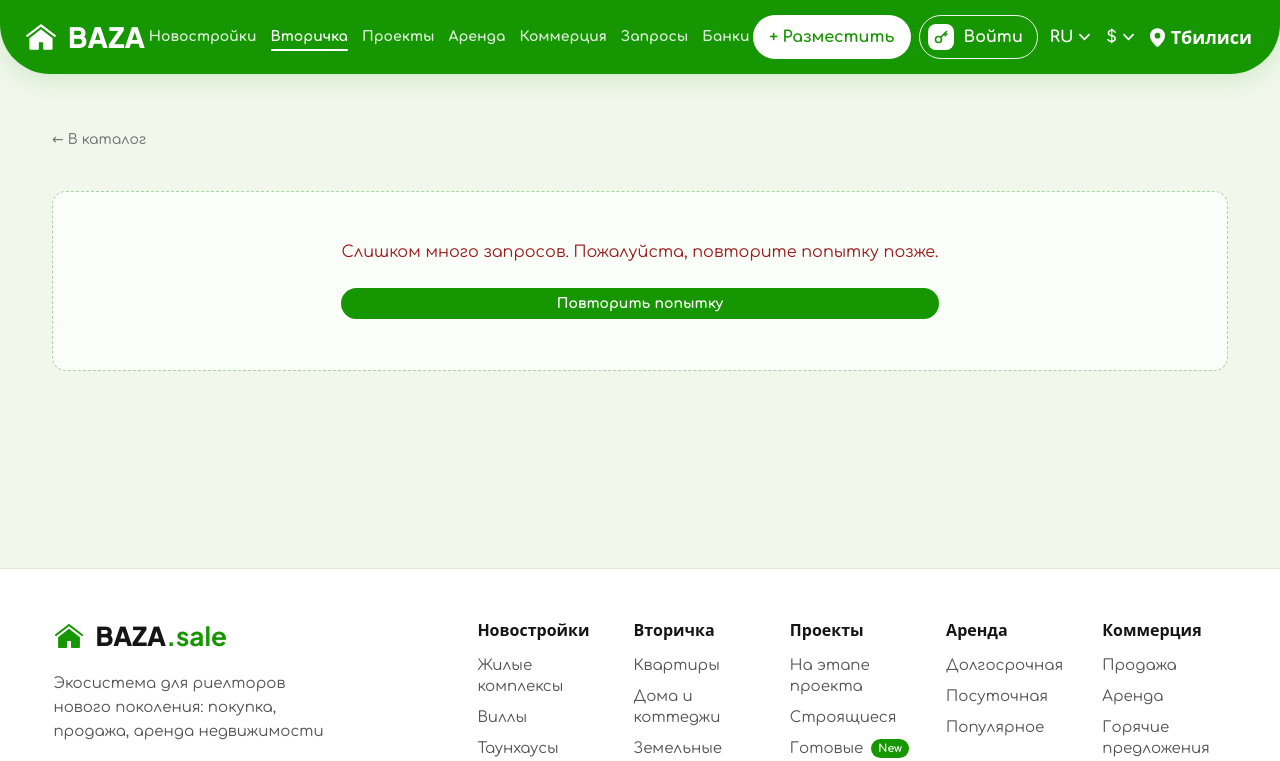
it: Production Error & Empty States Acceptance › renders 429 Rate Limited / Error state with retry button
Expected: the text "Слишком много запросов. Пожалуйста, повторите попытку позже." is shown, [342,243,939,261]
Click the button "Повторить попытку".
click(640, 304)  # box [342,288,939,319]
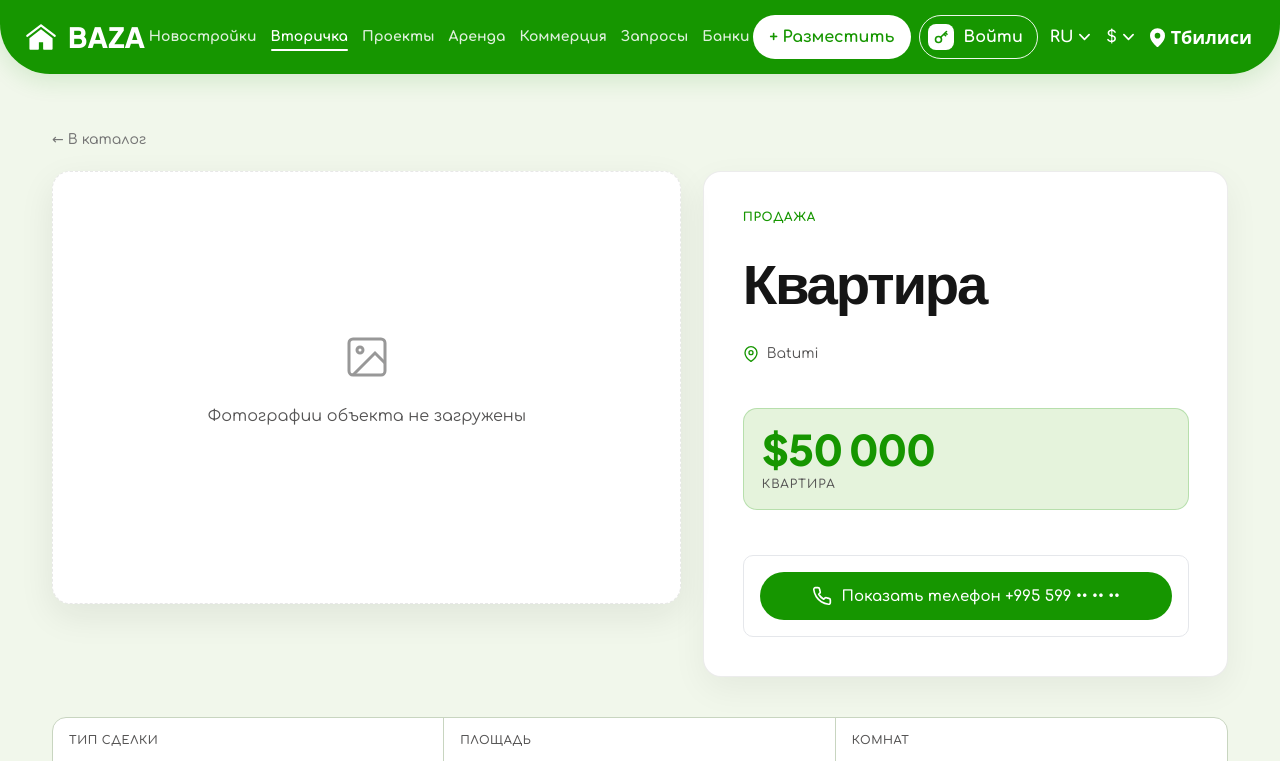
Expected: the heading "Квартира" is shown, [743,246,986,317]
Expected: the text "Batumi" is shown, [767,344,818,364]
